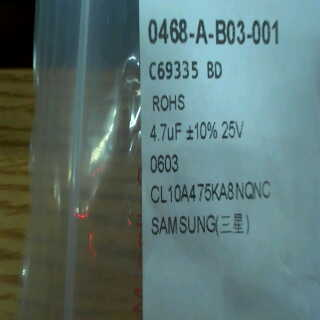4.7uF: (146, 118, 183, 148)
